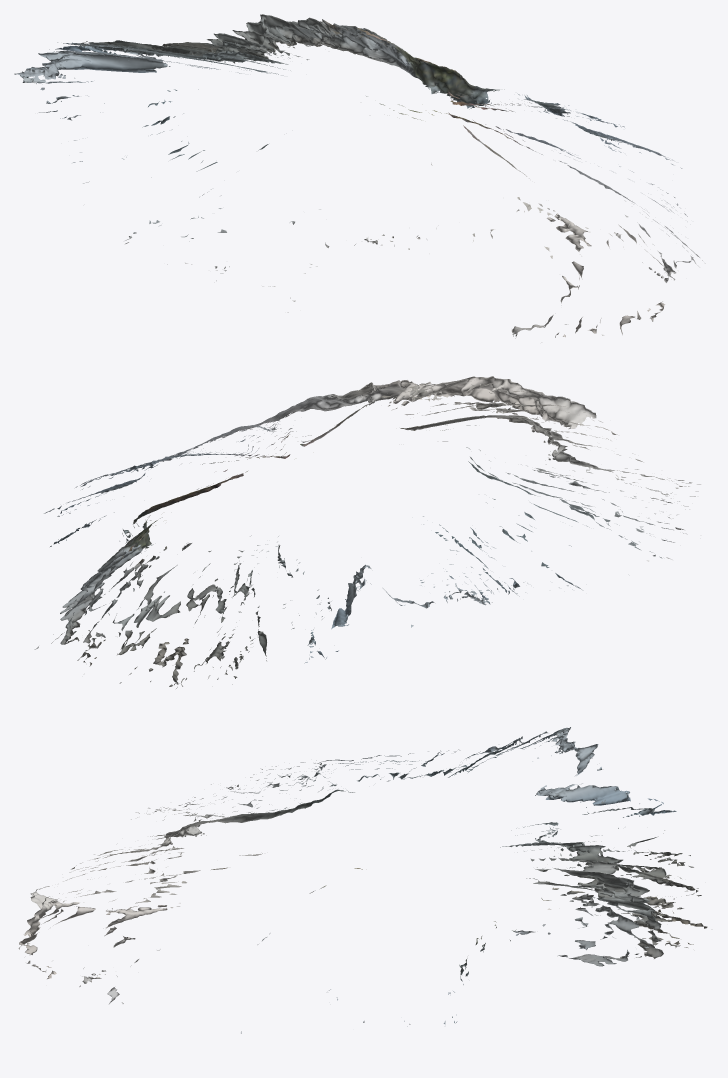
Rendered from world-1770575670621.glb.
3 renders of one model, top to bottom at view 1: azimuth 30°, elevation 25°; view 2: azimuth 150°, elevation 25°; view 3: azimuth 270°, elevation 25°, orthographic. The views are drawn at different scales.
Visible parts, largest first — view 1: world; view 2: world; view 3: world.
Boxes of the visible parts, x1,y1,x2,y2 form: world: (14,14,705,342); world: (34,376,700,688); world: (18,727,707,1033).
Bounding box in the file's own units: 161 × 34.62 × 192.
